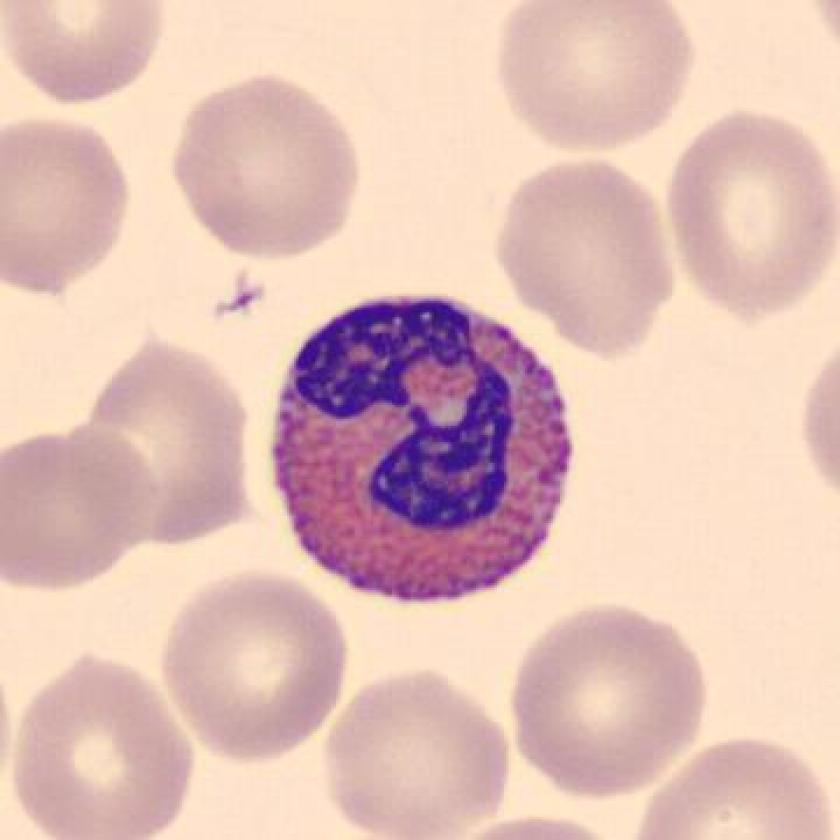eosinophil: (260, 279, 584, 617)
